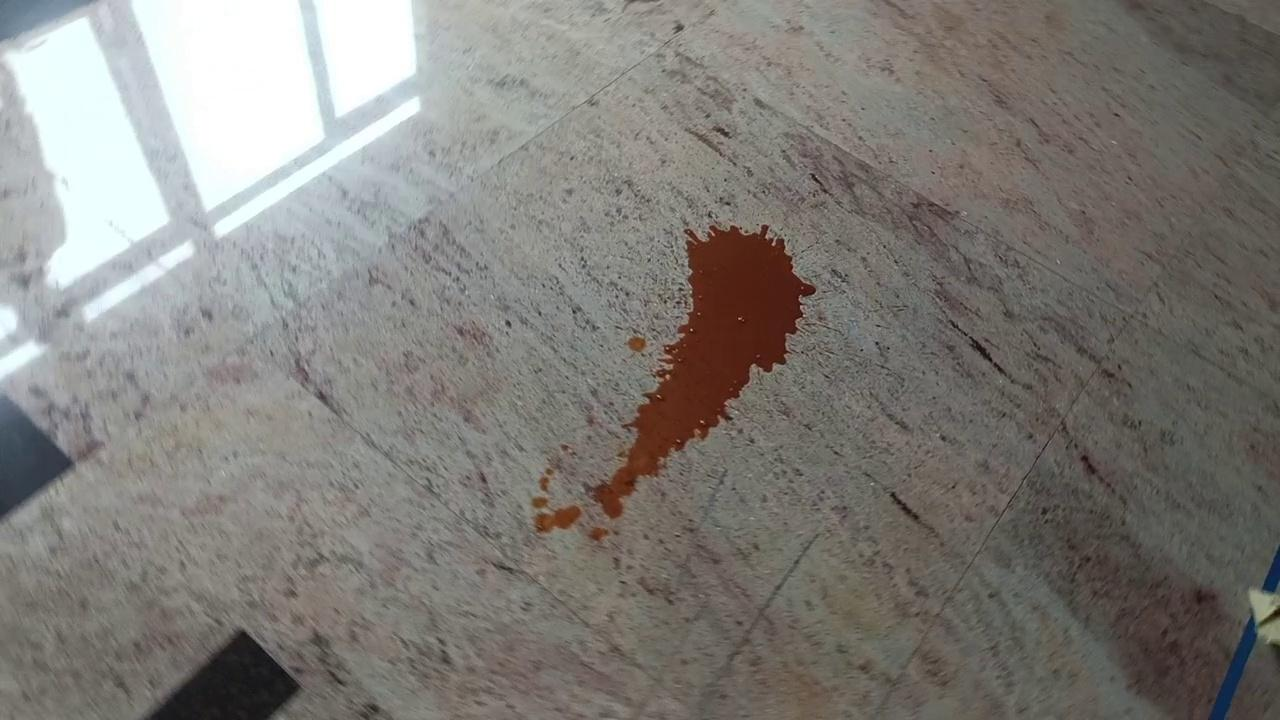dirty_floor: (534, 221, 811, 540)
